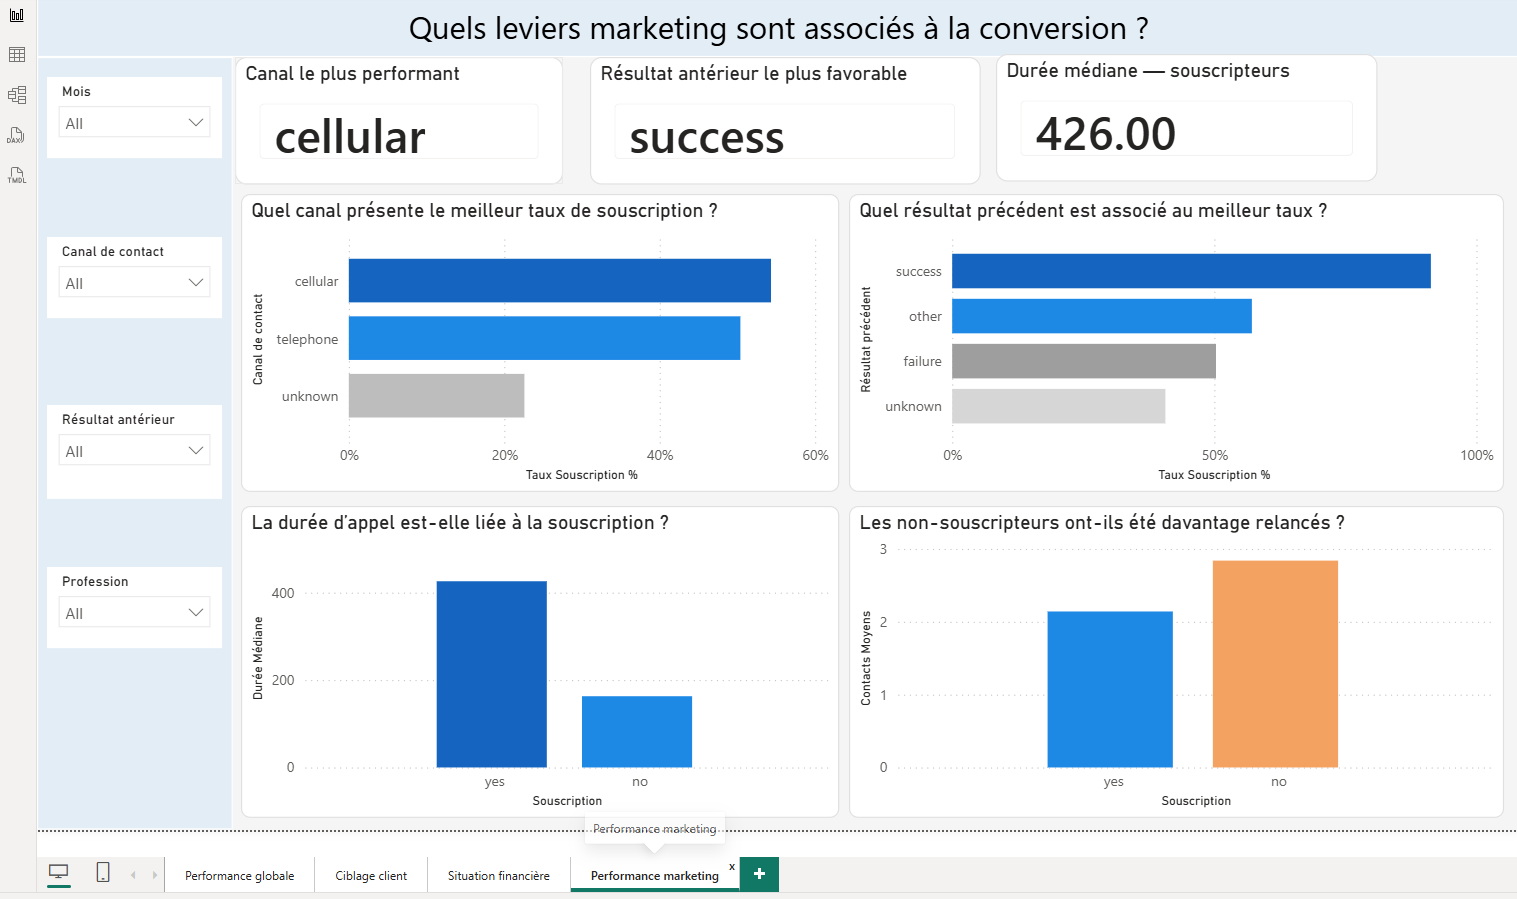

Layout of this report page (visuals, bound fields, positions):
{"tool":"powerbi","page":{"name":"Performance marketing","canvas":[1280,720],"ordinal":3},"visuals":[{"type":"shape","title":"Performance globale de la campagne bancaire","box":[0,0,1280,53.5],"z":0},{"type":"shape","box":[0,53.5,168.9,666.3],"z":1000},{"type":"slicer","fields":{"Values":["bank.month"]},"box":[8.2,71.1,151.4,70],"z":2000},{"type":"slicer","fields":{"Values":["bank.contact"]},"box":[8.2,209,151.4,70],"z":3000},{"type":"clusteredBarChart","title":"Quel canal présente le meilleur taux de souscription ?","fields":{"Category":["bank.contact"],"Y":["bank.Taux Souscription %"]},"box":[176,171.5,516.2,256.7],"z":4000},{"type":"clusteredBarChart","title":"Quel résultat précédent est associé au meilleur taux ?","fields":{"Category":["bank.poutcome"],"Y":["bank.Taux Souscription %"]},"box":[700.3,171.5,565.2,256.7],"z":5000},{"type":"clusteredColumnChart","title":"La durée d’appel est-elle liée à la souscription ?","fields":{"Category":["bank.deposit"],"Y":["bank.Durée Médiane"]},"box":[176,440.9,516.2,268.5],"z":6000},{"type":"clusteredColumnChart","title":"Les non-souscripteurs ont-ils été davantage relancés ?","fields":{"Category":["bank.deposit"],"Y":["bank.Contacts Moyens"]},"box":[700.3,440.9,565.2,268.5],"z":7000},{"type":"slicer","fields":{"Values":["bank.poutcome"]},"box":[8.2,353.2,151.4,81.4],"z":8000},{"type":"slicer","fields":{"Values":["bank.job"]},"box":[8.2,493.3,151.4,70],"z":9000},{"type":"cardVisual","title":"Canal le plus performant","fields":{"Data":["bank.Canal le plus performant"]},"box":[170.5,53.5,283,109.8],"z":10000},{"type":"cardVisual","title":"Résultat antérieur le plus favorable","fields":{"Data":["bank.Résultat antérieur le plus favorable"]},"box":[477.2,53.5,336.6,109.8],"z":11000},{"type":"cardVisual","title":"Durée médiane — souscripteurs","fields":{"Data":["bank.Durée médiane souscripteurs"]},"box":[827.3,50.8,329.3,109.8],"z":12000}]}

Visuals, with their boxes on the page's 1280x720 design canvas (x1, y1, x2, y2). These are canvas units, not pixel positions in the 1517x899 screenshot, which may show the page scaled, cropped or inside an application window:
"Performance globale de la campagne bancaire" shape: detection(0, 0, 1280, 54)
shape: detection(0, 54, 169, 720)
slicer - bank.month: detection(8, 71, 160, 141)
slicer - bank.contact: detection(8, 209, 160, 279)
"Quel canal présente le meilleur taux de souscription ?" clusteredBarChart: detection(176, 172, 692, 428)
"Quel résultat précédent est associé au meilleur taux ?" clusteredBarChart: detection(700, 172, 1266, 428)
"La durée d’appel est-elle liée à la souscription ?" clusteredColumnChart: detection(176, 441, 692, 709)
"Les non-souscripteurs ont-ils été davantage relancés ?" clusteredColumnChart: detection(700, 441, 1266, 709)
slicer - bank.poutcome: detection(8, 353, 160, 435)
slicer - bank.job: detection(8, 493, 160, 563)
"Canal le plus performant" cardVisual: detection(170, 54, 454, 163)
"Résultat antérieur le plus favorable" cardVisual: detection(477, 54, 814, 163)
"Durée médiane — souscripteurs" cardVisual: detection(827, 51, 1157, 161)
